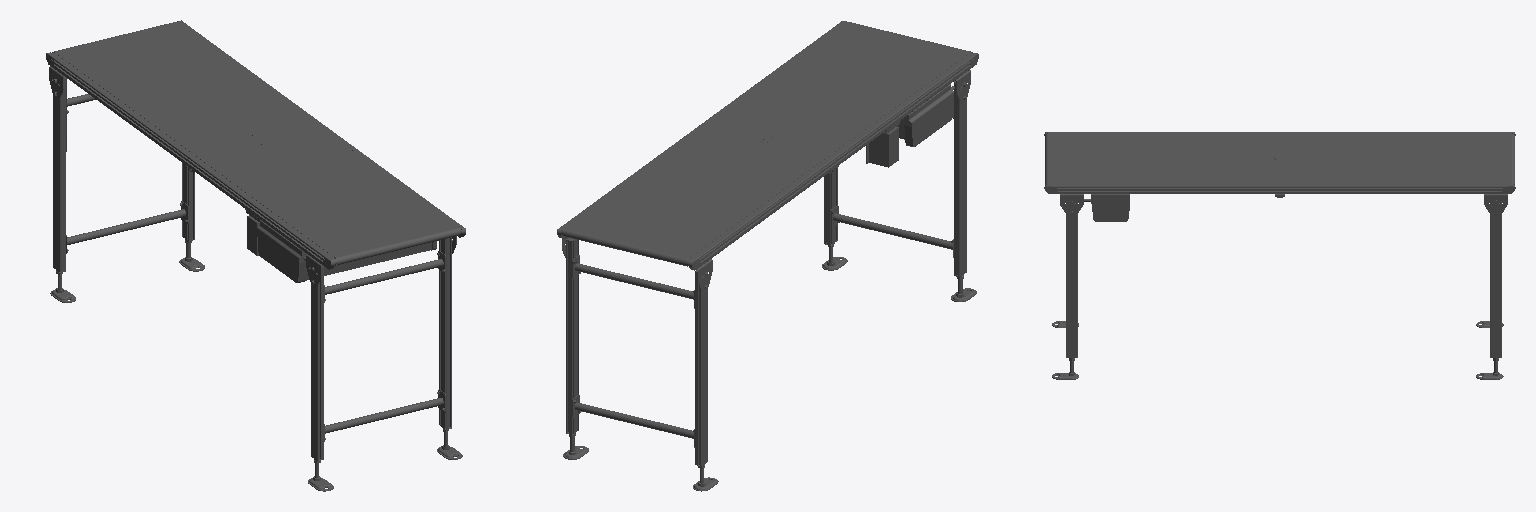
URDF robot description (conveyor):
<?xml version="1.0"?>
<robot name="conveyor">
  <link name="conveyor_base_link">
    <contact>
      <lateral_friction value="1.0"/>
      <spinning_friction value="1.0"/>
      <rolling_friction value="1.0"/>
    </contact>
    <inertial>
      <origin rpy="0 0 0" xyz="0 0 0"/>
      <mass value="0"/>
      <inertia ixx="1" ixy="0" ixz="0" iyy="1" iyz="0" izz="1"/>
    </inertial>
    <visual>
      <origin rpy="0 0 1.57075" xyz="0.0 0.0 0.0"/>
      <geometry>
        <mesh filename="conveyor/visual/conveyor.stl" scale="0.001 0.001 0.001"/>
      </geometry>
      <material name="Grey">
        <color rgba="0.4 0.4 0.4 1.0"/>
      </material>
    </visual>
    <collision>
      <origin rpy="0 0 1.57075" xyz="0.0 0.0 0.0"/>
      <geometry>
        <mesh filename="conveyor/collision/conveyor.stl" scale="0.001 0.001 0.001"/>
      </geometry>
    </collision>
  </link>
</robot>

--- What the picture shows (computed from the rendered views, not written in the file) ---
The picture shows the robot from 3 angles, left to right: view 1: azimuth 30°, elevation 25°; view 2: azimuth 150°, elevation 25°; view 3: azimuth 270°, elevation 25°; orthographic projection.
Model conveyor with 1 links and 0 joints (none), rooted at conveyor_base_link, posed all joints at 0.
Links seen in each view (by area): view 1: conveyor_base_link; view 2: conveyor_base_link; view 3: conveyor_base_link.
Boxes of the visible links, <box> form: conveyor_base_link: <box>46,20,465,491</box>; conveyor_base_link: <box>557,21,978,491</box>; conveyor_base_link: <box>1044,132,1515,379</box>.
Size in the robot's own frame: 0.5851 by 2 by 0.9025 metres.
1 mesh visuals loaded from 1 distinct referenced files (1 binary STL).